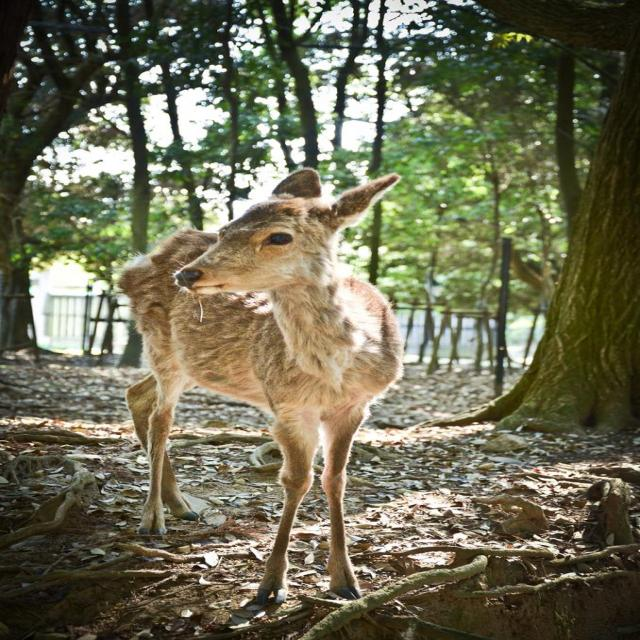Deer: (118, 167, 396, 605)
